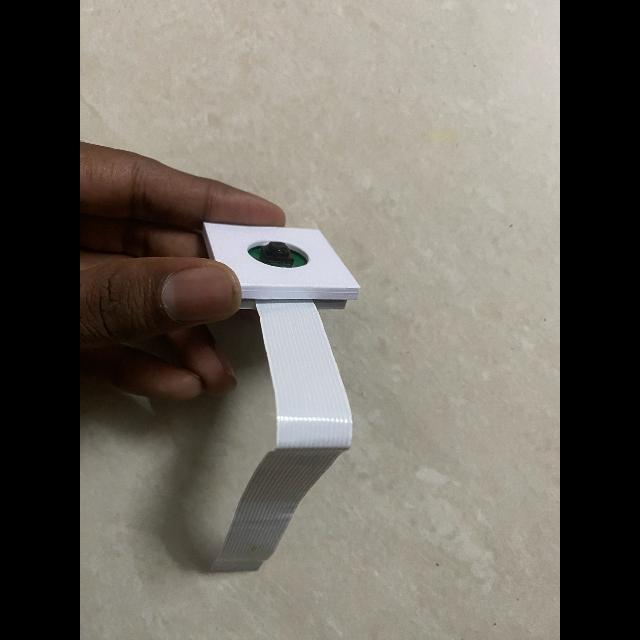RASPBERY PI CAM ENCLOSURE: (202, 222, 360, 310)
